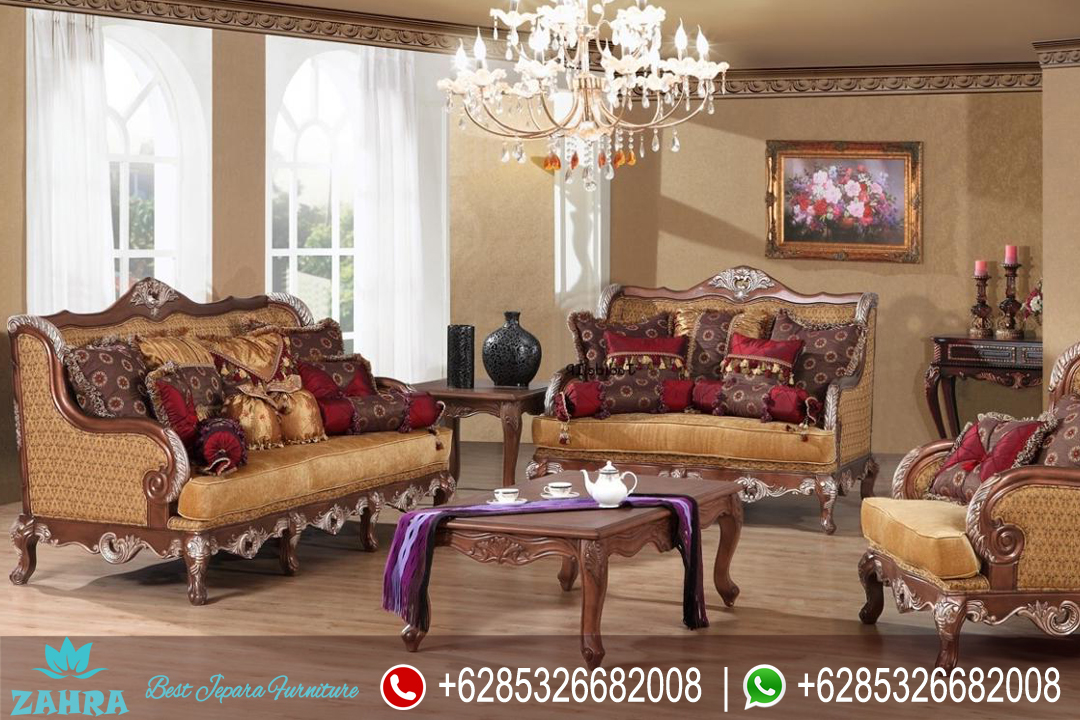Carving Chair: (12, 282, 462, 598), (549, 275, 881, 530), (866, 338, 1080, 666)
Carving Table: (423, 459, 746, 666)
